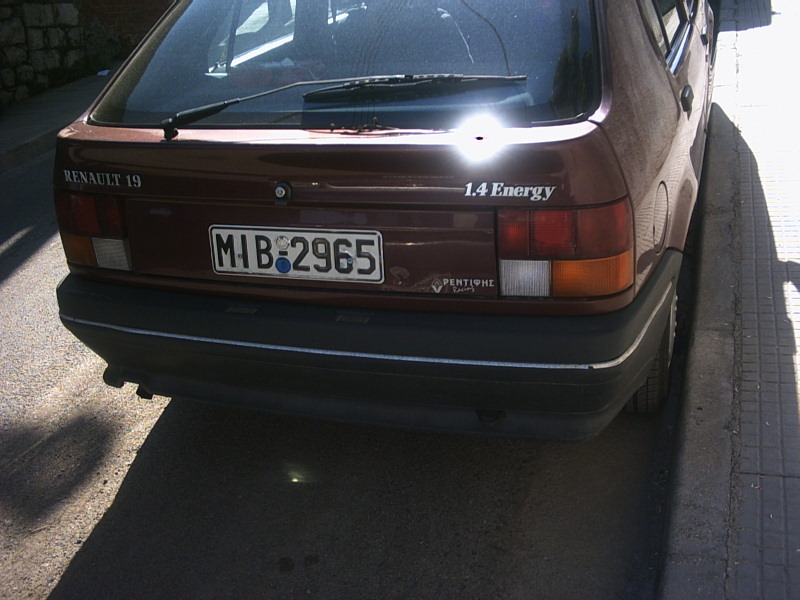licenseplate: (208, 223, 384, 284)
